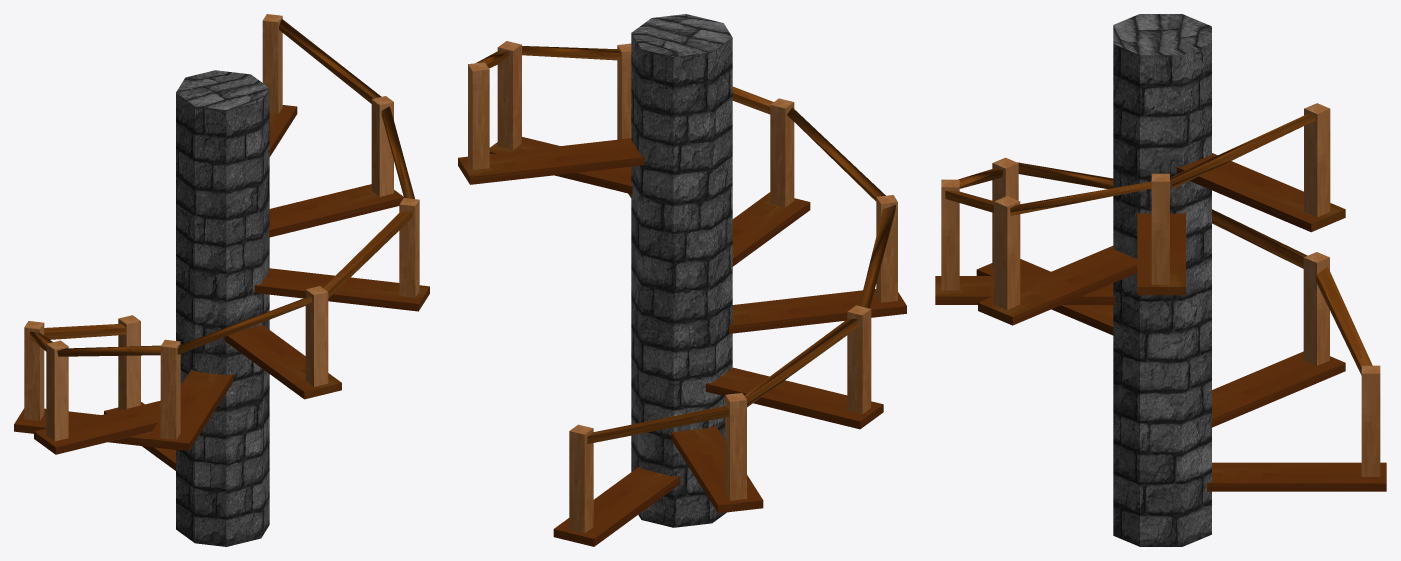
Rendered from WIPStair1.glb.
The picture shows the model from 3 angles, left to right: view 1: azimuth 30°, elevation 25°; view 2: azimuth 150°, elevation 25°; view 3: azimuth 270°, elevation 25°; orthographic projection. The views are drawn at different scales.
Visible parts, largest first — view 1: Cube; view 2: Cube; view 3: Cube.
Part boxes in pixels (x1,y1,x2,y2): Cube: [14, 14, 429, 546]; Cube: [458, 14, 906, 546]; Cube: [935, 14, 1386, 546].
Size of the model in its own units: 1.58 by 1.9 by 1.58.
4 materials, 4 textured.
